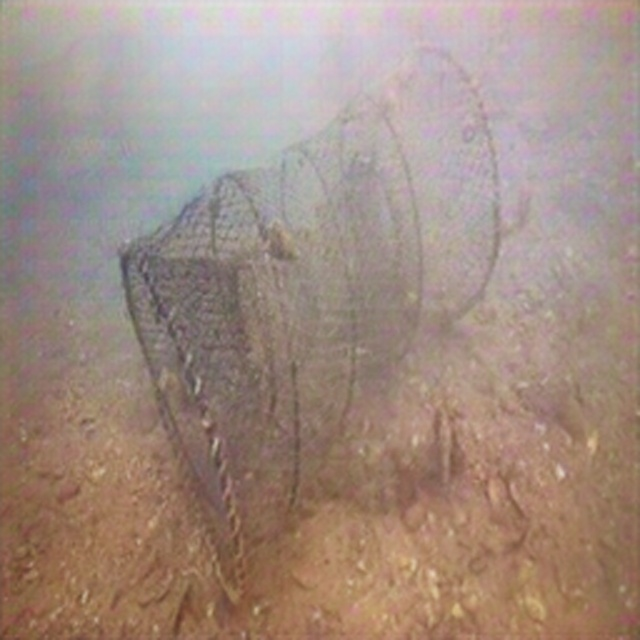mine: (118, 43, 502, 606)
